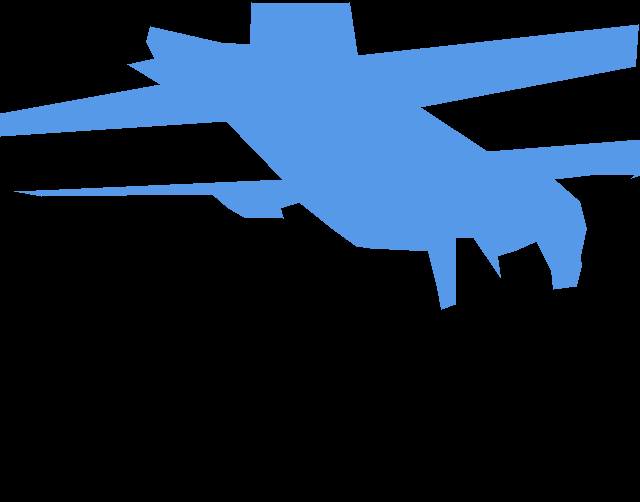Airplane: (0, 2, 640, 310)
